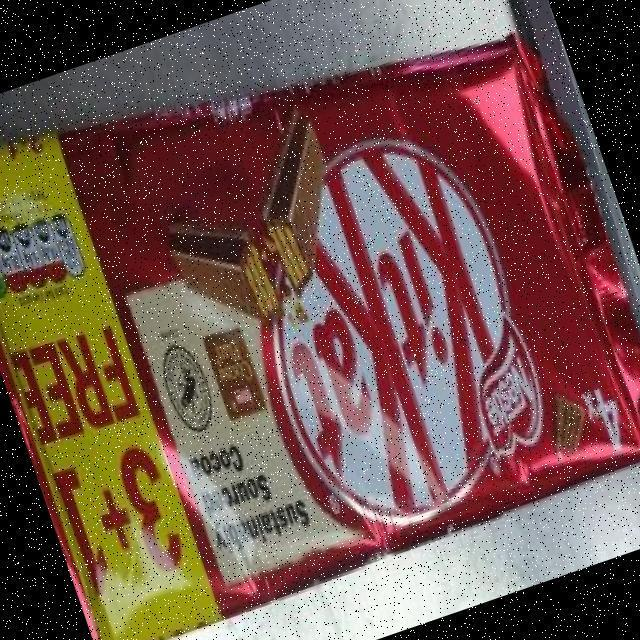Dry: (6, 90, 332, 640), (331, 31, 640, 538)
